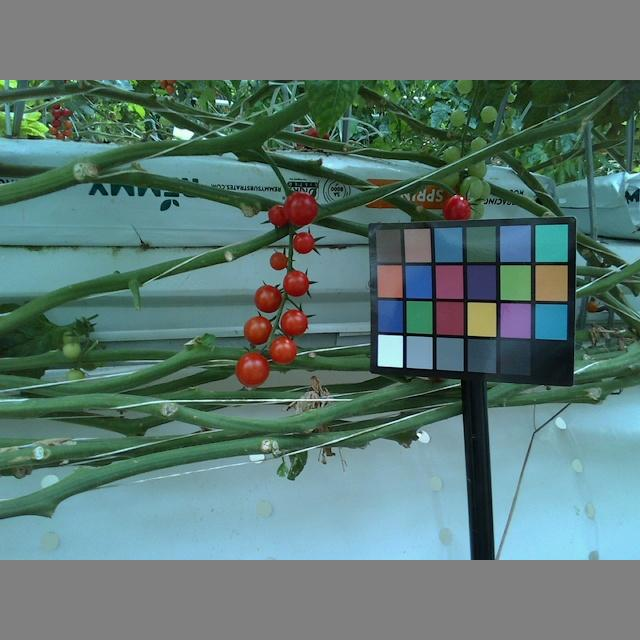green: (461, 175, 483, 201), (442, 144, 460, 164), (470, 137, 487, 158), (480, 105, 497, 122), (451, 109, 467, 127), (456, 81, 475, 94)
red: (235, 351, 271, 388), (283, 191, 318, 226), (243, 315, 274, 346), (442, 192, 472, 221), (255, 283, 283, 312), (269, 337, 297, 364), (281, 309, 308, 336), (284, 271, 311, 295), (266, 202, 290, 226), (292, 230, 315, 255), (269, 250, 288, 271)
